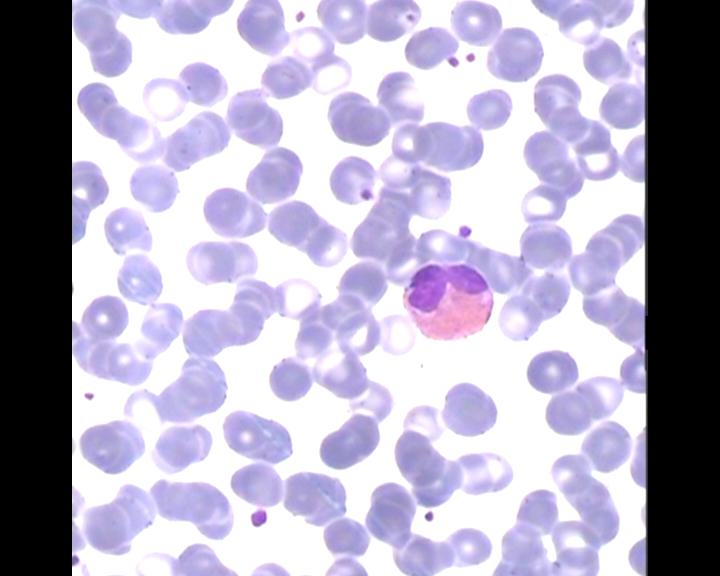eosi: (398, 262, 497, 345)
